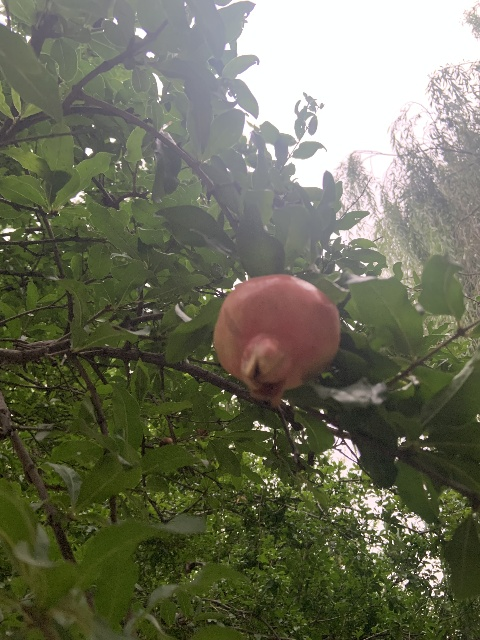ripe: (212, 273, 341, 407)
